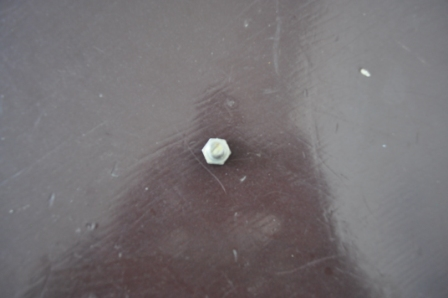NUT (MT): (200, 138, 233, 166)
